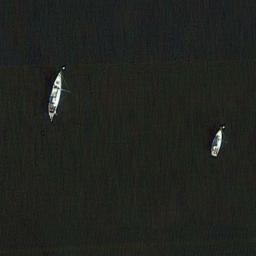boat: (44, 68, 66, 122), (208, 124, 225, 158)
